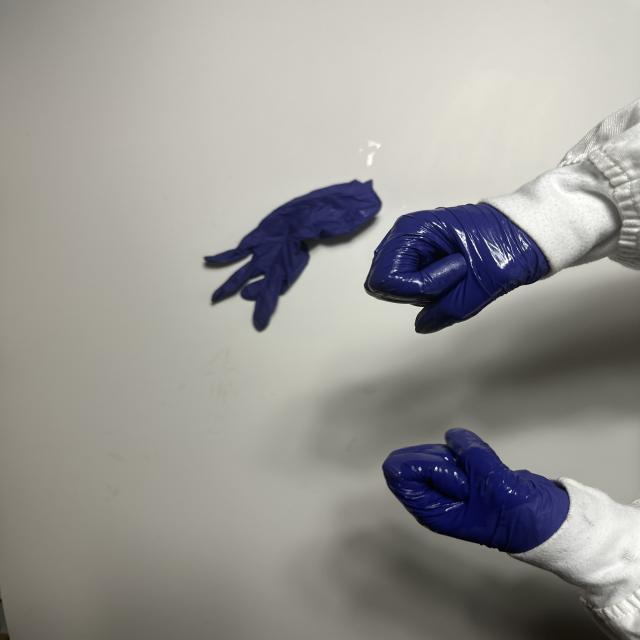gloves_contaminated: (365, 204, 549, 334), (383, 428, 569, 554)
